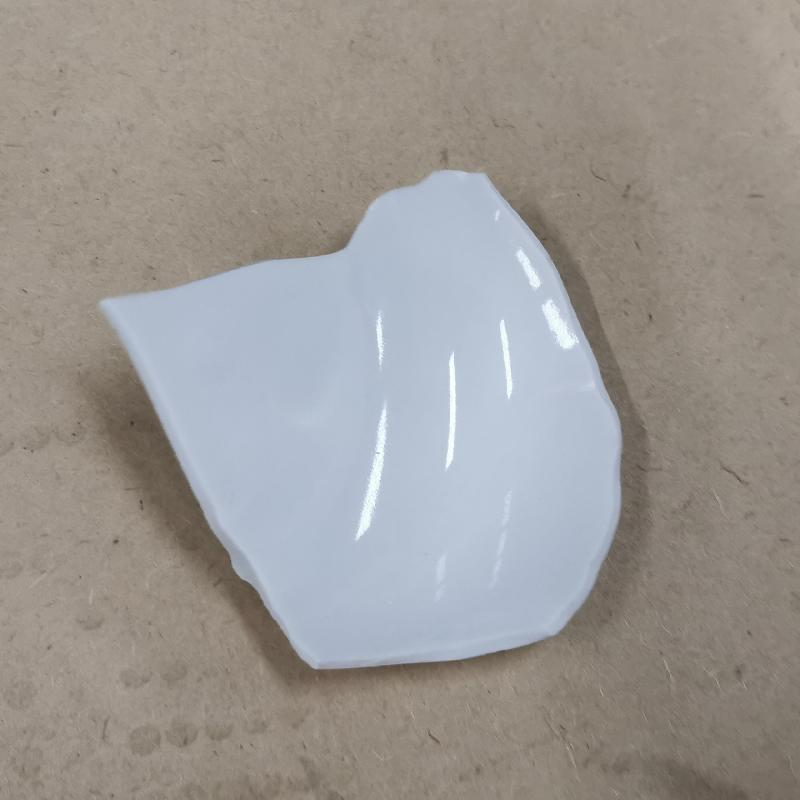ceram: (98, 165, 631, 674)
